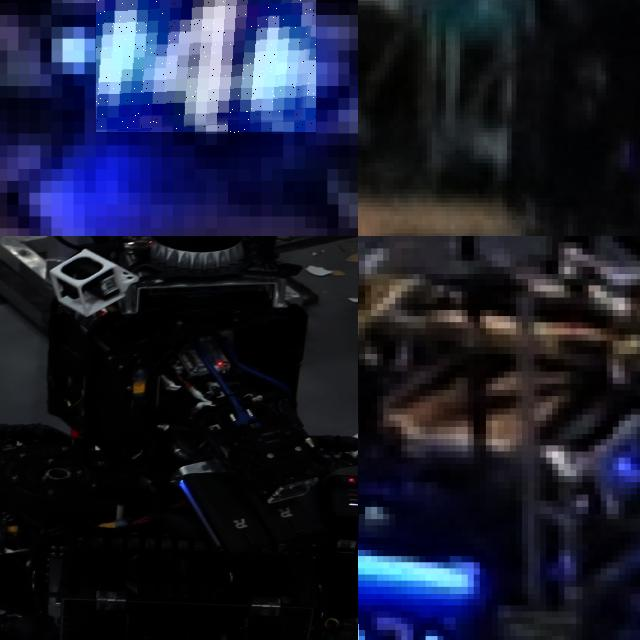B2: (358, 611, 462, 640)
B4: (95, 0, 316, 133)
